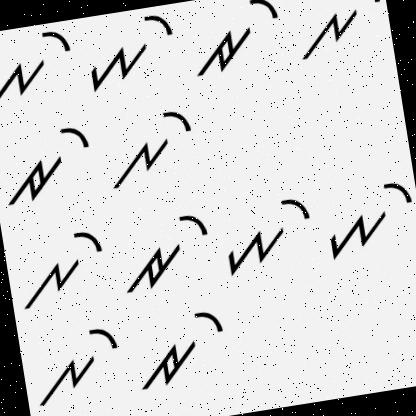lay: (28, 316, 130, 413), (100, 102, 202, 192), (12, 222, 114, 312), (288, 0, 391, 71)
ray: (130, 304, 235, 395), (116, 208, 217, 298), (0, 119, 99, 209), (182, 0, 287, 81)
yay: (213, 189, 321, 282), (316, 173, 416, 263), (80, 10, 184, 96), (0, 23, 79, 113)
